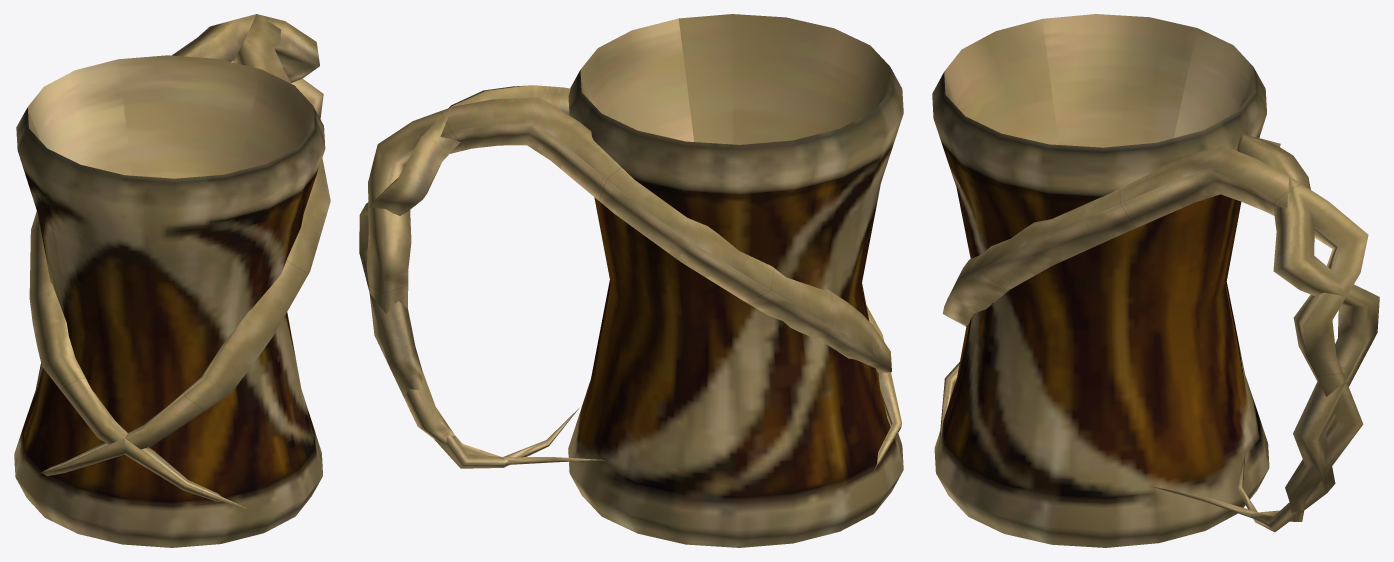
File: CH07_CINE04_GALION_SHOT2_MUG.fbx
3 views of the same model, side by side, from view 1: azimuth 30°, elevation 25°; view 2: azimuth 150°, elevation 25°; view 3: azimuth 270°, elevation 25° (orthographic). The views are drawn at different scales.
Visible parts, largest first — view 1: CH07_CINE04_GALION_SHOT2_MUG; view 2: CH07_CINE04_GALION_SHOT2_MUG; view 3: CH07_CINE04_GALION_SHOT2_MUG.
Part boxes in pixels (x1,y1,x2,y2): CH07_CINE04_GALION_SHOT2_MUG: [14, 14, 330, 547]; CH07_CINE04_GALION_SHOT2_MUG: [359, 14, 903, 547]; CH07_CINE04_GALION_SHOT2_MUG: [932, 14, 1379, 547].
Size of the model in its own units: 2061 by 1929 by 1924.
Materials: 1 (1 with a texture image).
